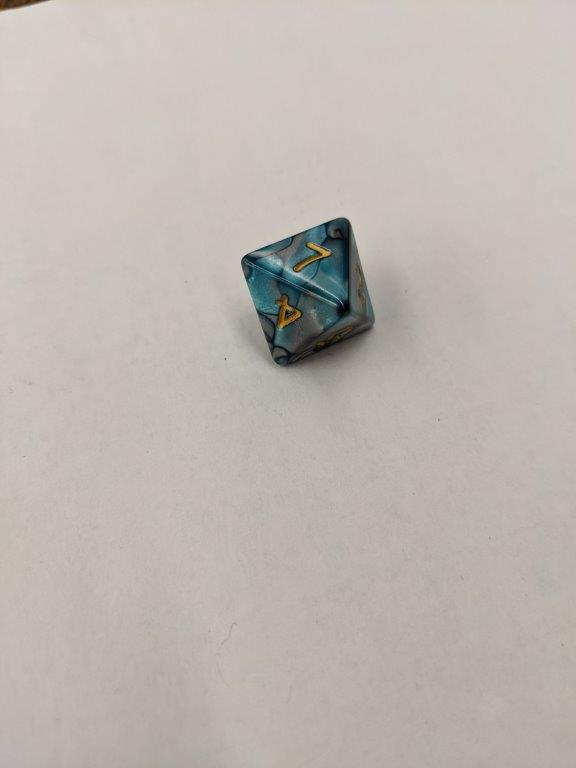d8-7: (239, 216, 375, 371)
